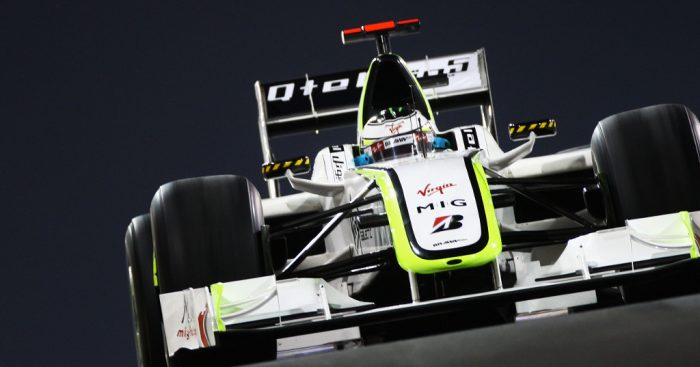f1_car: (113, 8, 700, 366)
